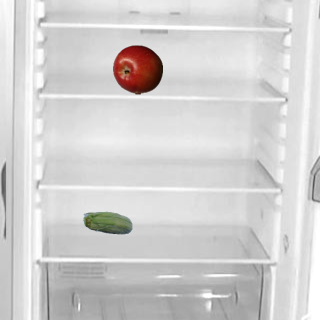Apple Braeburn: (112, 44, 162, 94)
Corn Husk: (82, 199, 132, 249)
